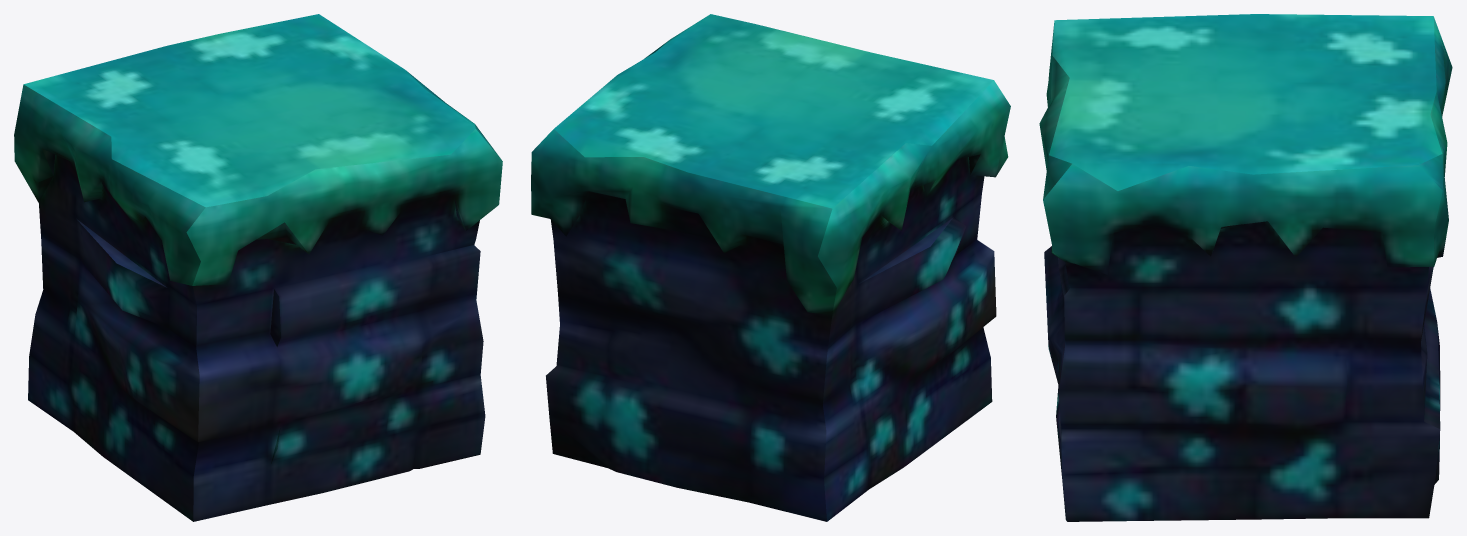
The model's file is b_mycelium_mur_1.glb.
3 renders of one model, left to right at view 1: azimuth 30°, elevation 25°; view 2: azimuth 150°, elevation 25°; view 3: azimuth 270°, elevation 25°, orthographic. The views are drawn at different scales.
Parts seen in each view (by area): view 1: geometry_0; view 2: geometry_0; view 3: geometry_0.
Boxes of the visible parts, x1=… form: geometry_0: x1=14, y1=14, x2=502, y2=521; geometry_0: x1=531, y1=14, x2=1010, y2=521; geometry_0: x1=1039, y1=14, x2=1452, y2=521.
Bounding box in the file's own units: 1 × 0.9531 × 1.
Materials: 1 (1 with a texture image).
